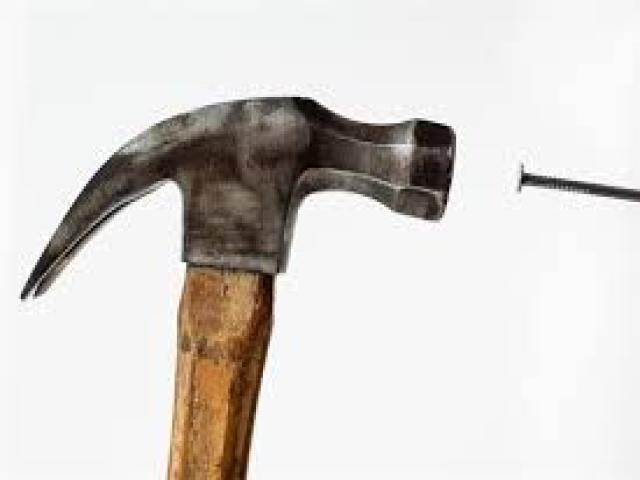Hammer: (23, 97, 452, 478)
